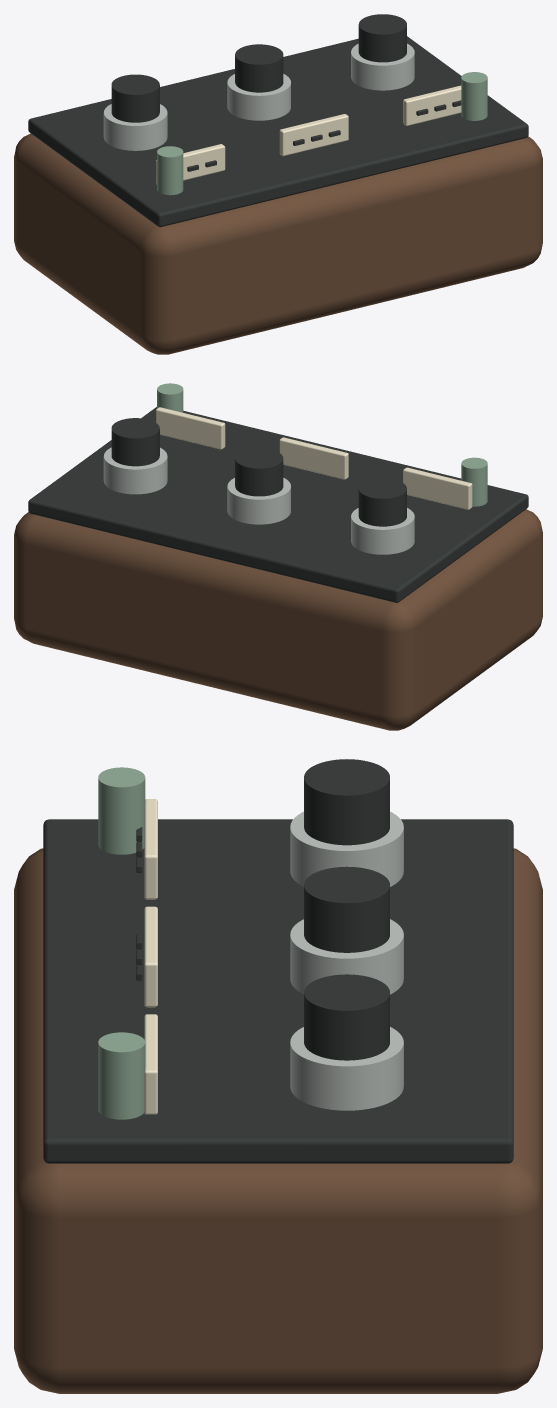
File: abandoned-telephone-exchange-resistance-test-box-aeef6874__31995.glb
The picture shows the model from 3 angles, top to bottom: view 1: azimuth 30°, elevation 25°; view 2: azimuth 150°, elevation 25°; view 3: azimuth 270°, elevation 25°; orthographic projection. The views are drawn at different scales.
Visible parts, largest first — view 1: resistance-test-box; view 2: resistance-test-box; view 3: resistance-test-box.
Part boxes in pixels (x1,y1,x2,y2): resistance-test-box: [14, 14, 542, 354]; resistance-test-box: [14, 383, 542, 730]; resistance-test-box: [14, 759, 542, 1393].
Bounding box in the file's own units: 0.42 × 0.197 × 0.27.
